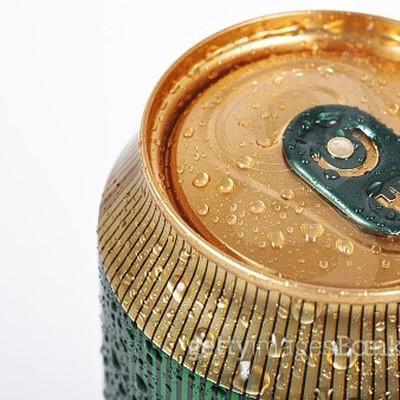beer: (99, 13, 399, 400)
